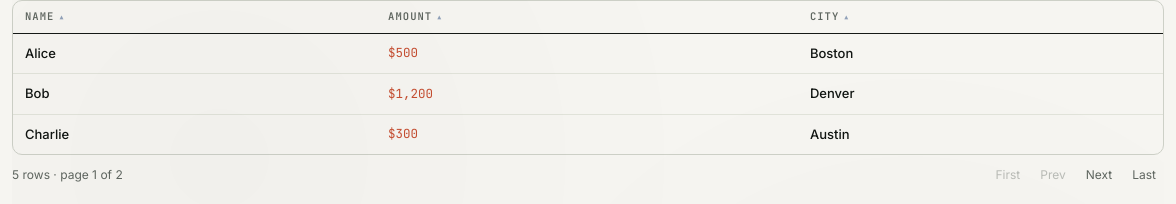
Test: TableExplorer › resets to page 1 when sort changes
This screenshot has width=1176, height=204.
Click the button "Next" at (1099, 175), box [1078,163,1120,187]
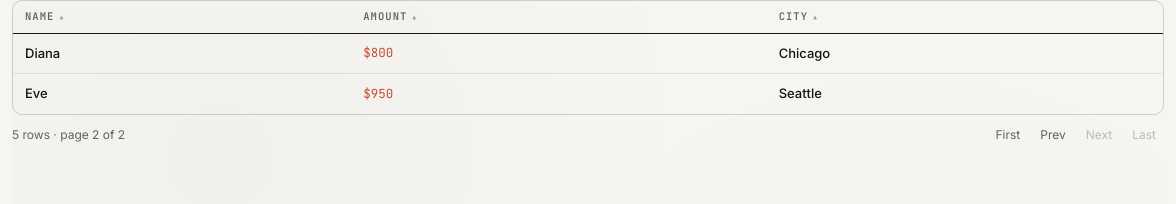
Result: the text "5 rows · page 2 of 2" is shown at [12,127,125,143]
Click the text "Name" at (45, 17), box [25,9,66,25]
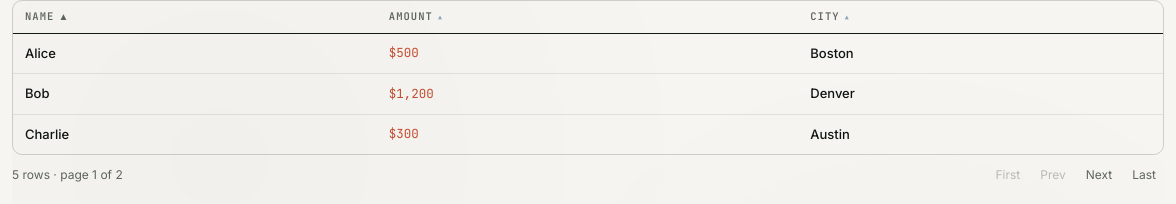
Result: the text "5 rows · page 1 of 2" is shown at [12,167,123,183]
